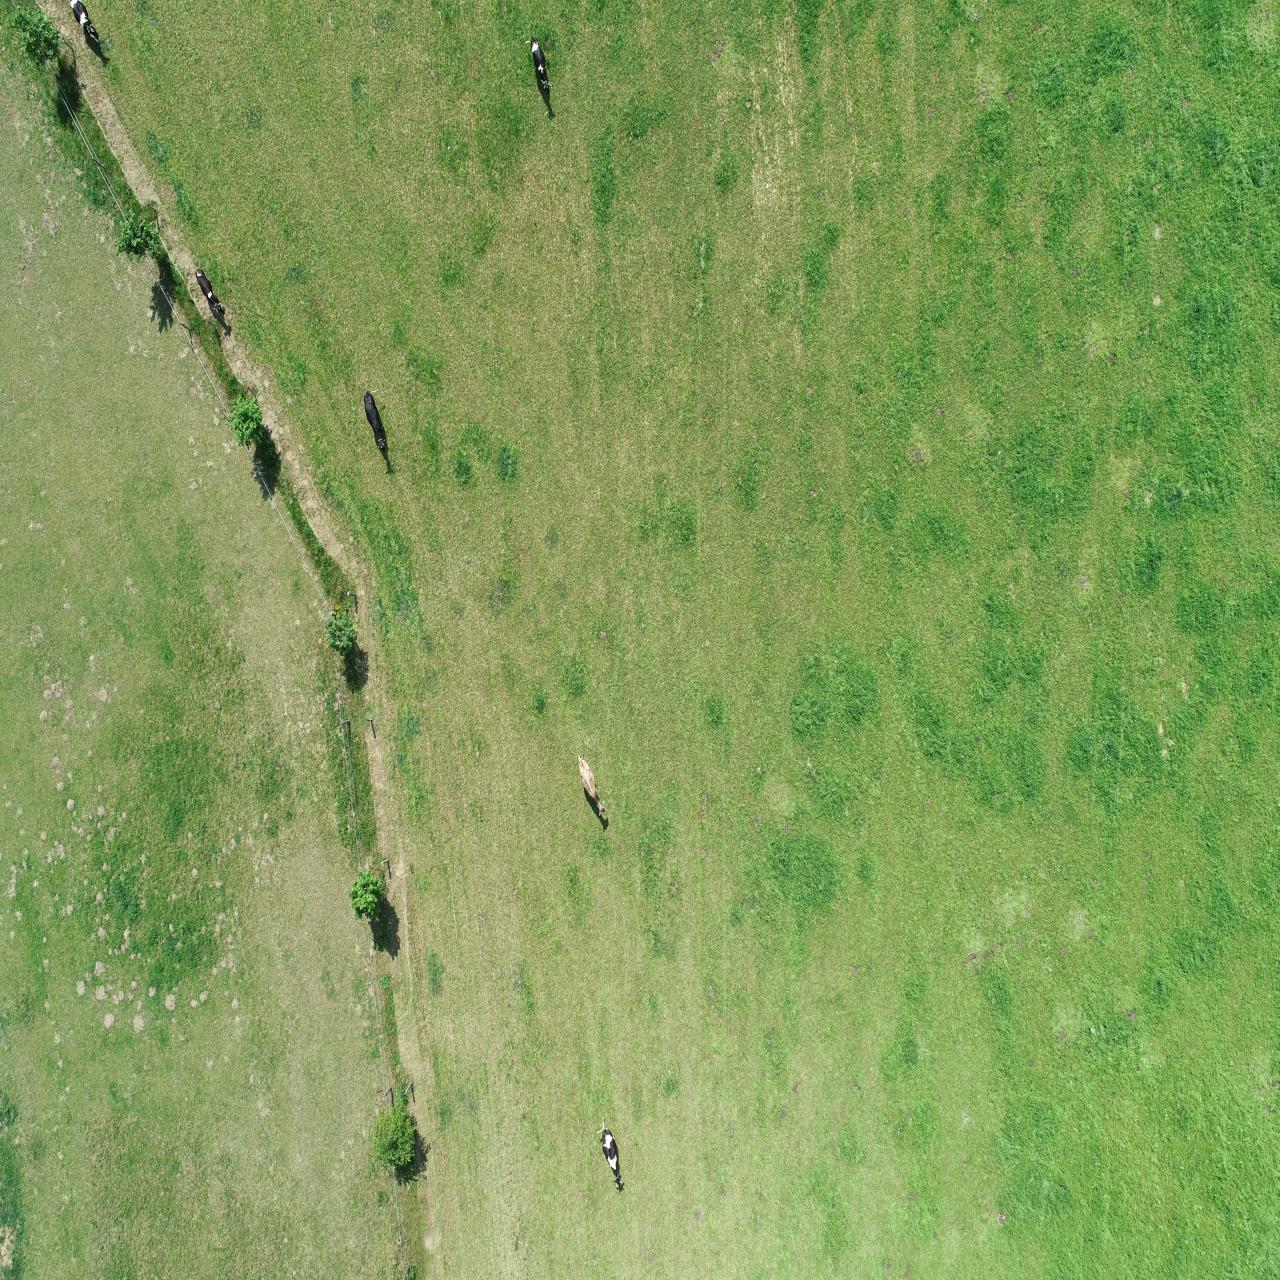cow: (192, 267, 230, 333), (595, 1117, 626, 1196), (361, 388, 394, 456), (574, 754, 607, 817), (524, 33, 552, 94)
